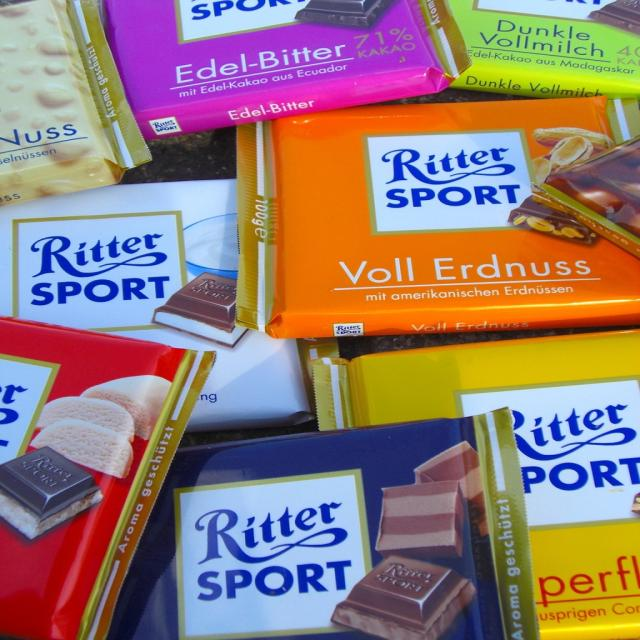rittersport: (173, 471, 387, 640), (456, 375, 640, 532), (12, 212, 195, 337), (363, 130, 545, 237), (177, 2, 333, 45)
